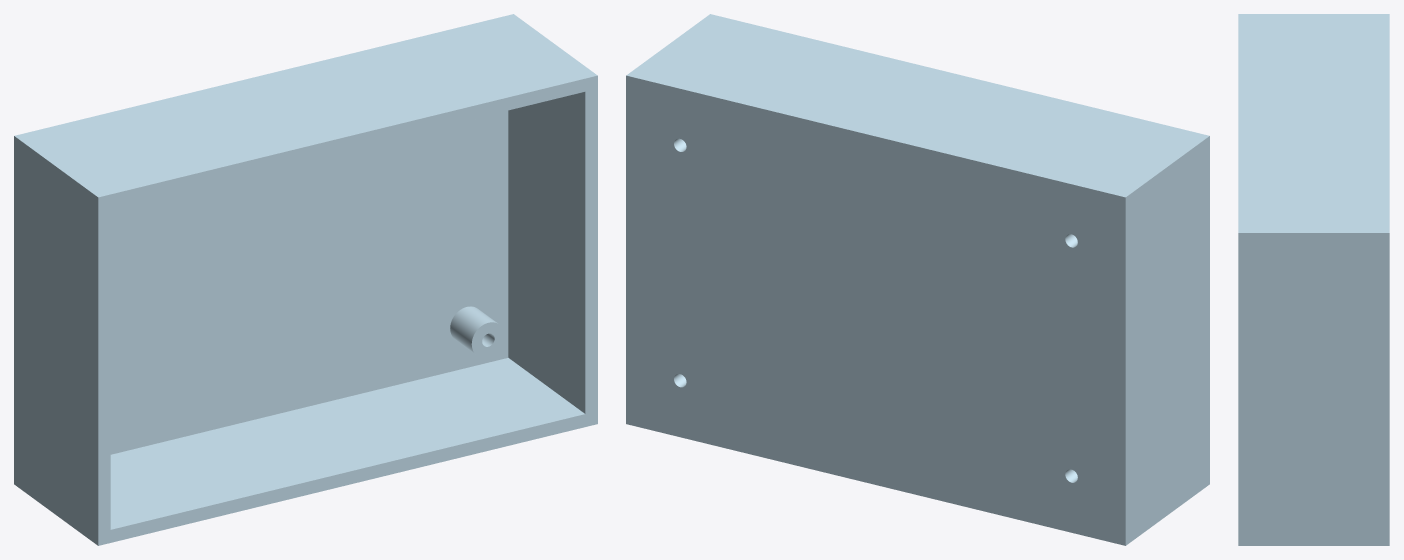
3 renders of one model, left to right at view 1: azimuth 30°, elevation 25°; view 2: azimuth 150°, elevation 25°; view 3: azimuth 270°, elevation 25°, orthographic. The views are drawn at different scales.
Parts seen in each view (by area): view 1: Part 1; view 2: Part 1; view 3: Part 1.
Part boxes in pixels (box(x1,y1,x2,y2)): Part 1: box(14, 14, 597, 545); Part 1: box(626, 14, 1209, 545); Part 1: box(1238, 14, 1389, 545).
Bounding box in the file's own units: 0.12 × 0.08 × 0.035.
